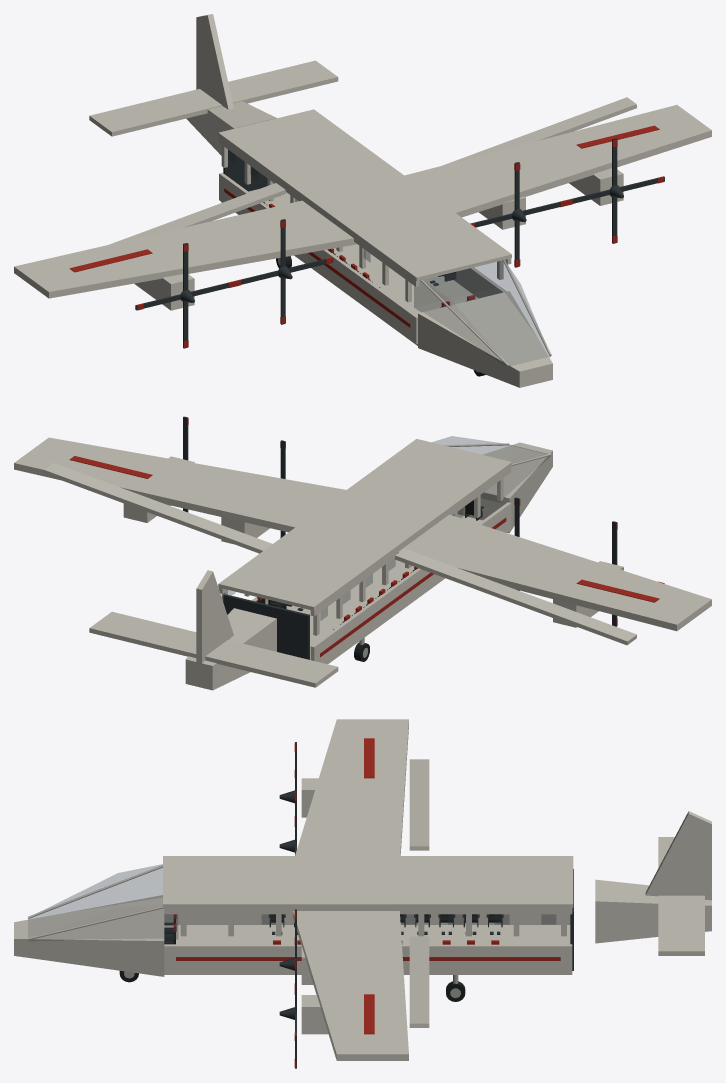
3 views of the same model, one above another, from view 1: azimuth 30°, elevation 25°; view 2: azimuth 150°, elevation 25°; view 3: azimuth 270°, elevation 25° (orthographic). The views are drawn at different scales.
Parts seen in each view (by area): view 1: troop-plane-painted, transport-roof-painted, troop-plane-glazing, flap-1-painted, flap--1-painted, propeller--1-11-painted, propeller-1-11-painted, propeller--1-6-painted, propeller-1-6-painted, breakaway-1-painted, transport-ramp-painted, breakaway-2-painted; view 2: troop-plane-painted, transport-roof-painted, flap--1-painted, flap-1-painted, troop-plane-glazing, transport-ramp-painted, crew-seating-batch-painted, breakaway-2-painted, breakaway-1-painted; view 3: troop-plane-painted, transport-roof-painted, troop-plane-glazing, flap--1-painted, flap-1-painted, crew-seating-batch-painted.
Part boxes in pixels (bbox=[...]): troop-plane-painted: bbox=[14, 14, 711, 387]; transport-roof-painted: bbox=[218, 109, 511, 302]; troop-plane-glazing: bbox=[228, 150, 550, 367]; flap-1-painted: bbox=[443, 97, 636, 165]; flap--1-painted: bbox=[109, 183, 285, 244]; propeller--1-11-painted: bbox=[135, 243, 235, 348]; propeller-1-11-painted: bbox=[566, 138, 664, 243]; propeller--1-6-painted: bbox=[234, 219, 333, 324]; propeller-1-6-painted: bbox=[470, 162, 566, 267]; breakaway-1-painted: bbox=[134, 274, 194, 310]; transport-ramp-painted: bbox=[223, 150, 267, 191]; breakaway-2-painted: bbox=[479, 196, 525, 229]; troop-plane-painted: bbox=[14, 437, 711, 690]; transport-roof-painted: bbox=[218, 439, 511, 635]; flap--1-painted: bbox=[395, 548, 636, 645]; flap-1-painted: bbox=[43, 463, 272, 553]; troop-plane-glazing: bbox=[228, 436, 550, 620]; transport-ramp-painted: bbox=[223, 594, 309, 659]; crew-seating-batch-painted: bbox=[256, 500, 483, 629]; breakaway-2-painted: bbox=[221, 517, 269, 543]; breakaway-1-painted: bbox=[553, 561, 623, 627]; troop-plane-painted: bbox=[14, 719, 711, 1060]; transport-roof-painted: bbox=[163, 856, 573, 936]; troop-plane-glazing: bbox=[28, 864, 555, 940]; flap--1-painted: bbox=[409, 759, 429, 850]; flap-1-painted: bbox=[409, 936, 429, 1027]; crew-seating-batch-painted: bbox=[164, 914, 503, 944].
Size of the model in its own units: 179 by 42.02 by 158.
